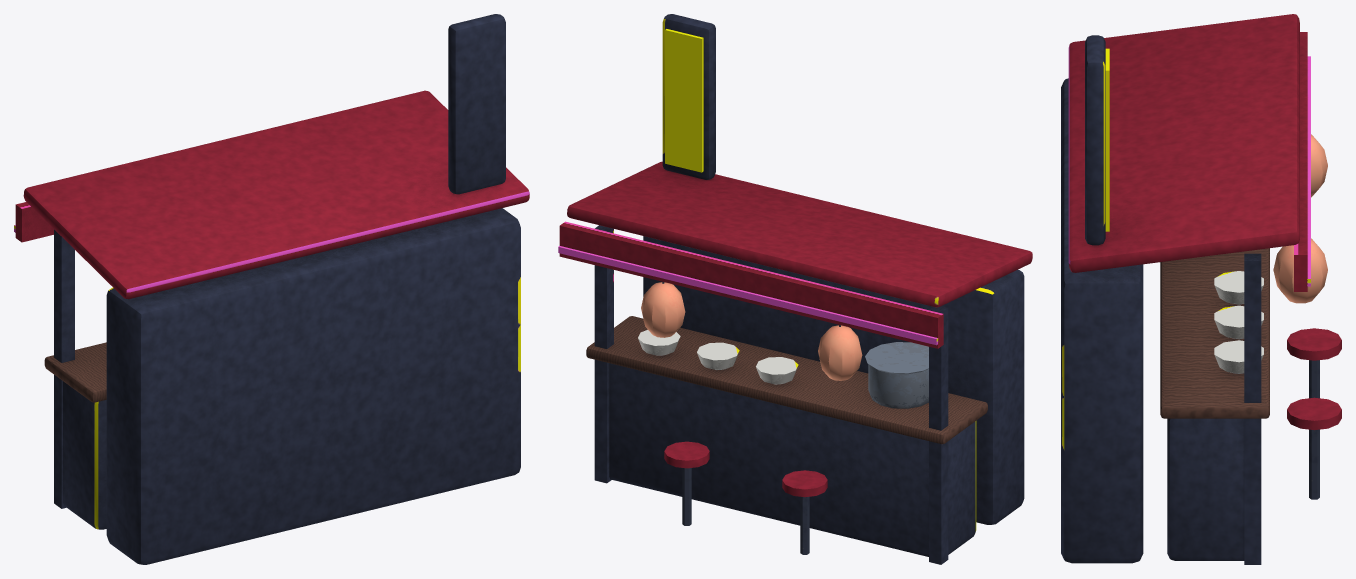
Rendered from noodle_stall.fbx.
The picture shows the model from 3 angles, left to right: view 1: azimuth 30°, elevation 25°; view 2: azimuth 150°, elevation 25°; view 3: azimuth 270°, elevation 25°; orthographic projection. The views are drawn at different scales.
Visible parts, largest first — view 1: noodle_stall; view 2: noodle_stall, noodle_stall_glow2, noodle_stall_glow; view 3: noodle_stall, noodle_stall_glow, noodle_stall_glow2.
Part boxes in pixels (box(x1,y1,x2,y2)): noodle_stall: box(15, 14, 529, 564); noodle_stall: box(559, 14, 1032, 564); noodle_stall_glow2: box(665, 29, 703, 172); noodle_stall_glow: box(558, 246, 938, 345); noodle_stall: box(1061, 14, 1341, 564); noodle_stall_glow: box(1307, 56, 1310, 286); noodle_stall_glow2: box(1105, 48, 1109, 231).
Size of the model in its own units: 770 by 810 by 410.
1 material, 1 textured.
